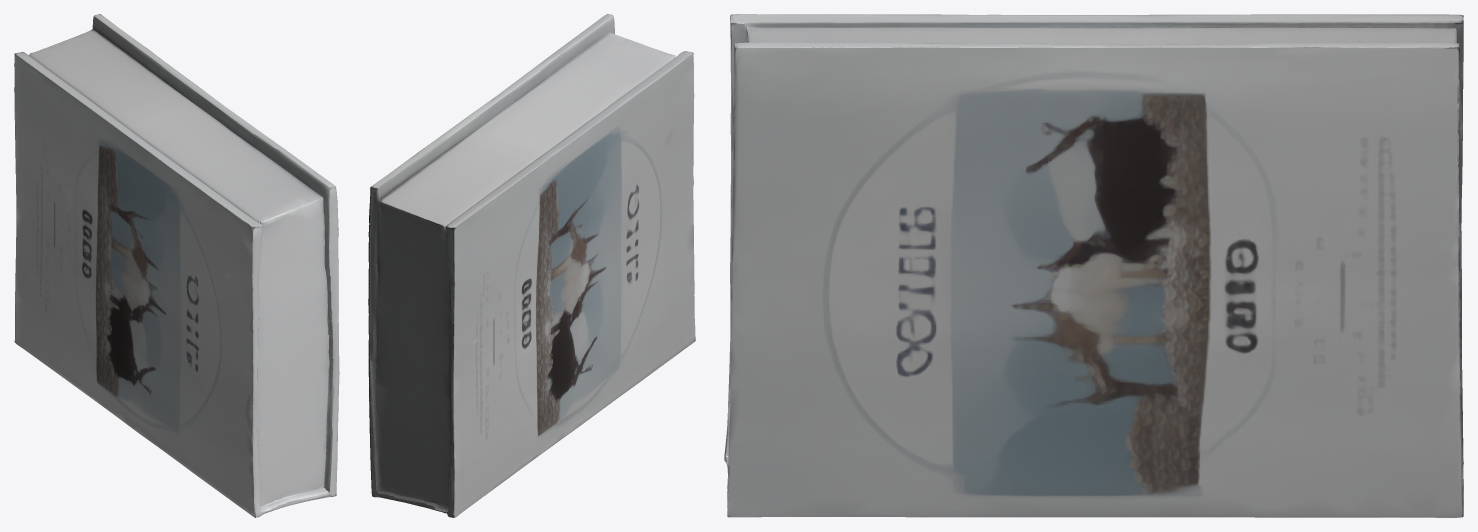
The model's file is book3.obj.
The picture shows the model from 3 angles, left to right: view 1: azimuth 30°, elevation 25°; view 2: azimuth 150°, elevation 25°; view 3: azimuth 270°, elevation 25°; orthographic projection. The views are drawn at different scales.
Visible parts, largest first — view 1: geometry_0; view 2: geometry_0; view 3: geometry_0.
Boxes of the visible parts, x1,y1,x2,y2 form: geometry_0: (14,14,339,517); geometry_0: (368,14,695,517); geometry_0: (724,14,1463,517).
Size of the model in its own units: 0.0533 by 0.179 by 0.2525.
Materials: 1 (1 with a texture image).
